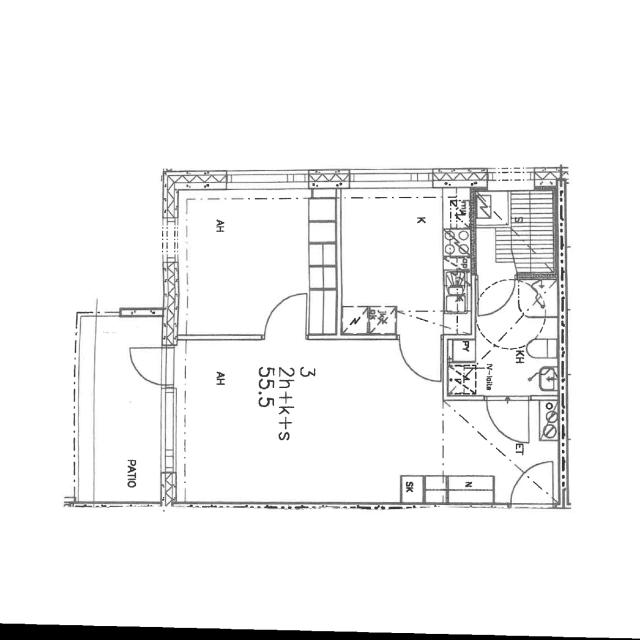door: (256, 285, 311, 338), (506, 454, 558, 508), (483, 392, 533, 446), (399, 334, 442, 385), (126, 344, 172, 385), (474, 276, 516, 316)
window: (155, 385, 183, 473), (183, 328, 261, 346)
zone: (172, 192, 330, 337), (323, 192, 472, 329), (77, 309, 171, 504), (453, 270, 563, 400), (474, 186, 558, 276), (400, 476, 424, 504)
